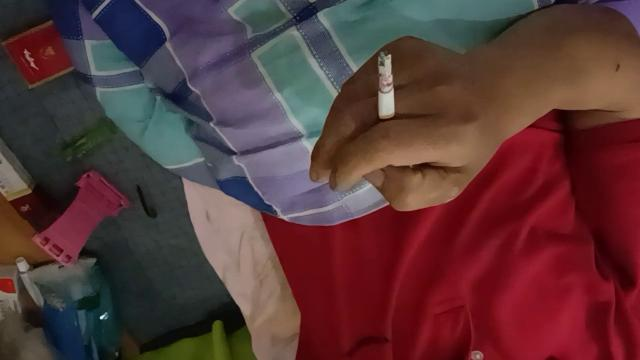Cigarette: (378, 51, 396, 137)
